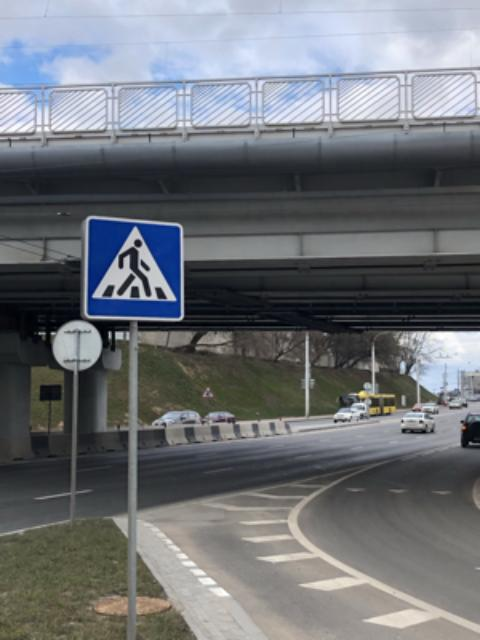crosswalk-sign: (80, 214, 187, 322)
